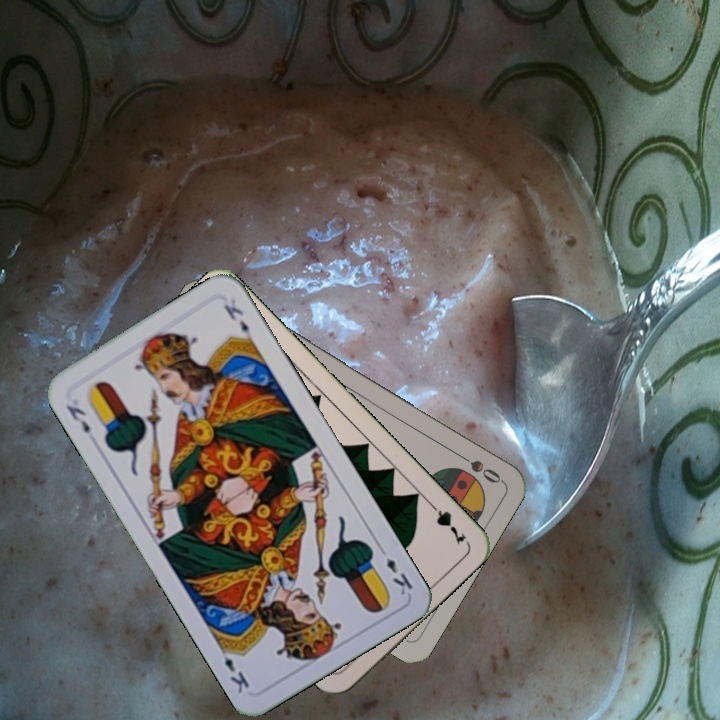EK: (374, 542, 416, 598), (62, 400, 93, 436)
G7: (423, 497, 469, 548)
SO: (451, 447, 504, 487)
